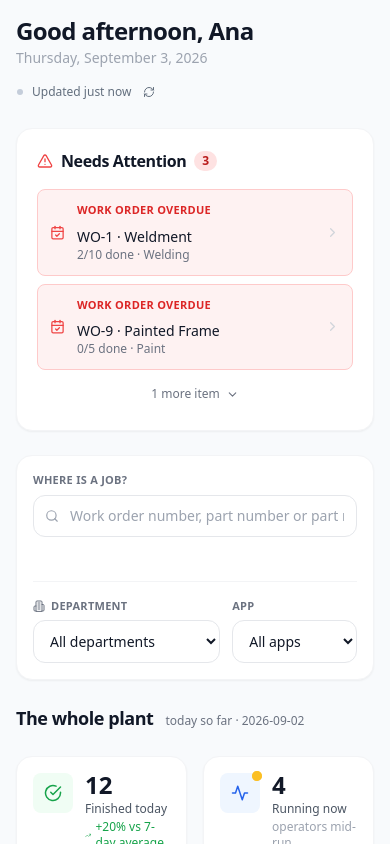
Scenario: the scope reaches every number on the page › clears back to the whole plant
Select "Welding" in the dropdown labelled "Department": (127, 642) [33,620,220,663]
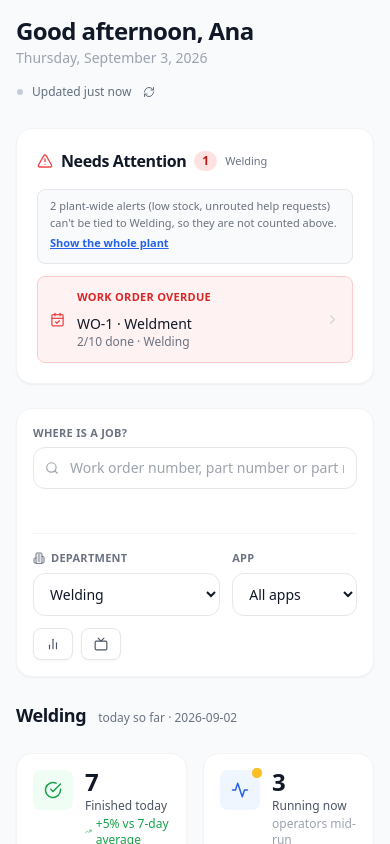
Expected: the element with test id "kpi-finished-today" shows "7", [85,764,99,798]
Select "All departments" in the dropdown labelled "Department": (127, 594) [33,572,220,616]
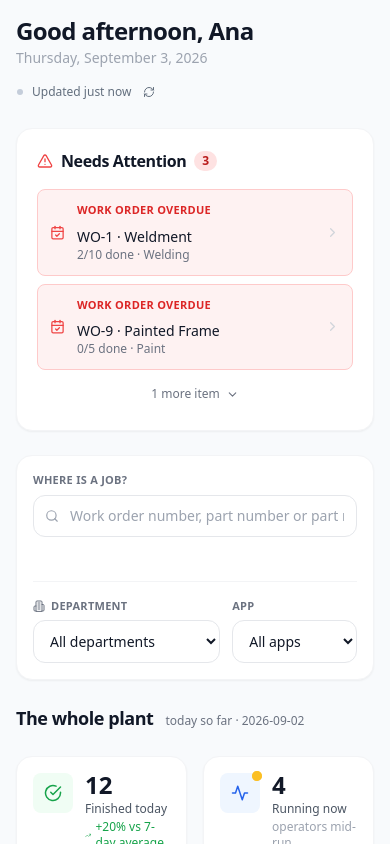
Expected: the element with test id "kpi-finished-today" shows "12", [85,768,112,801]
Expected: the heading "The whole plant" is shown, [16,704,153,732]
